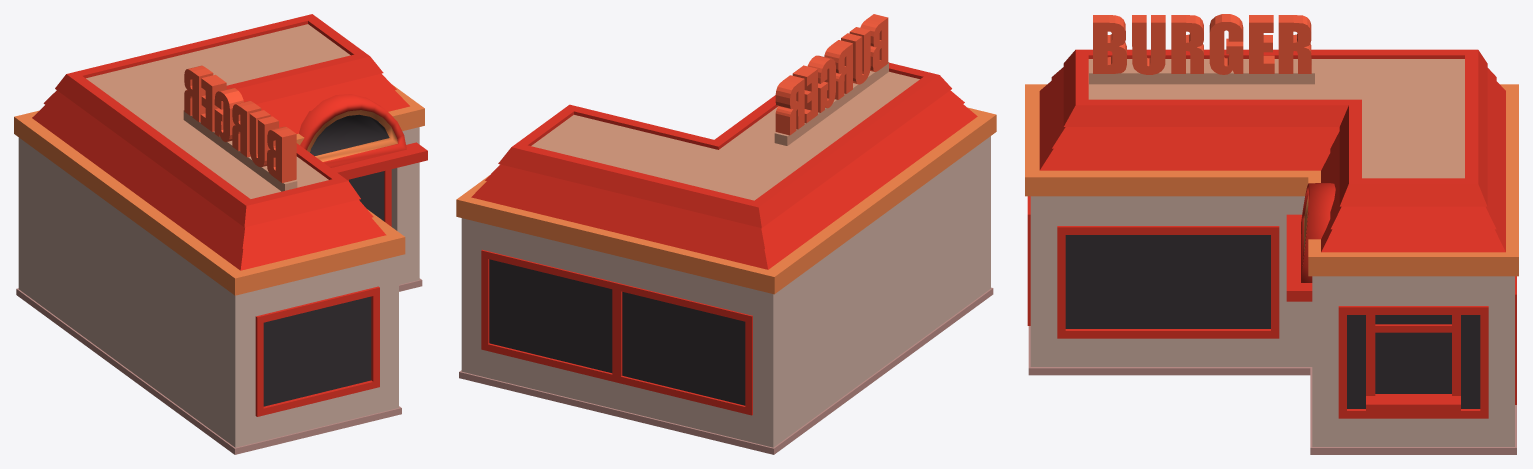
The model's file is shop_b_low.glb.
3 renders of one model, left to right at view 1: azimuth 30°, elevation 25°; view 2: azimuth 150°, elevation 25°; view 3: azimuth 270°, elevation 25°, orthographic. The views are drawn at different scales.
Visible parts, largest first — view 1: shop_b_low; view 2: shop_b_low; view 3: shop_b_low.
Boxes of the visible parts, x1,y1,x2,y2 form: shop_b_low: (14,14,427,454); shop_b_low: (456,14,996,454); shop_b_low: (1025,14,1518,454).
Size of the model in its own units: 8.6 by 6.91 by 9.93.
Materials: 1 (1 with a texture image).
